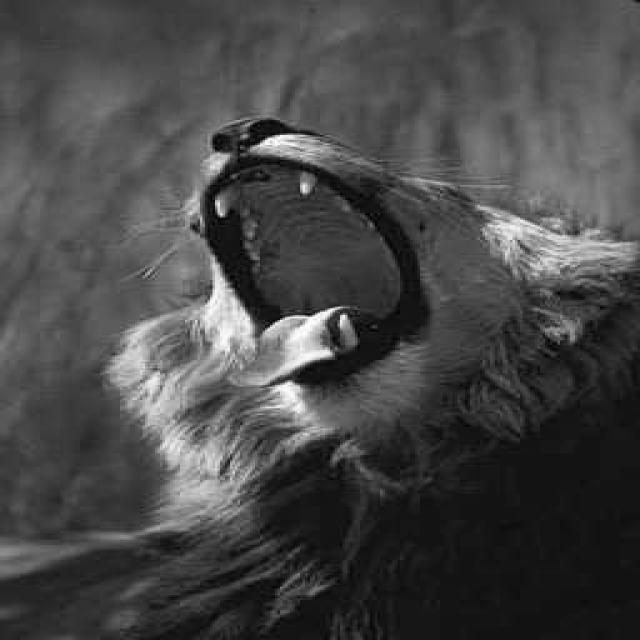Lion: (55, 28, 572, 580)
